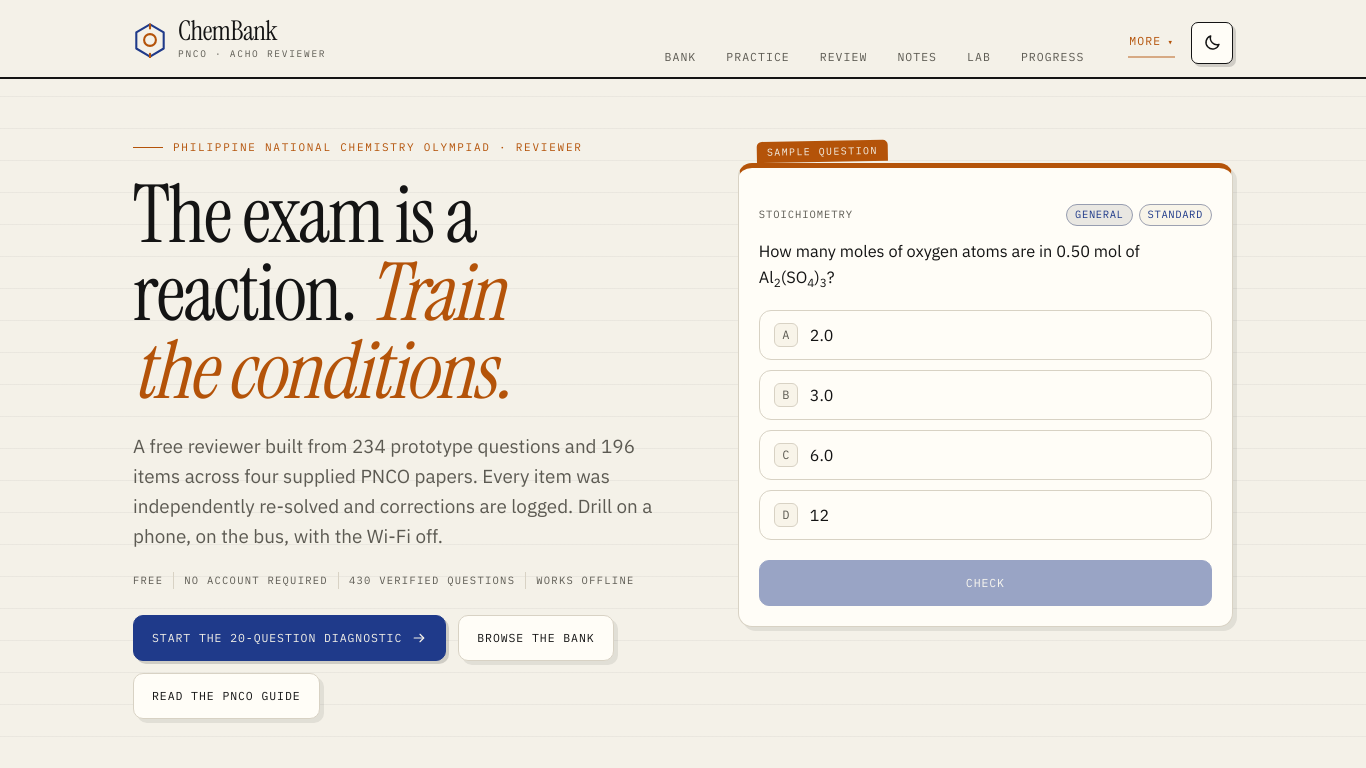
Test: the sample result calls out a wrong pick in text
Step 1. Click the radio button labelled "D 12" → (786, 515), box x1=759 y1=490 x2=1212 y2=540
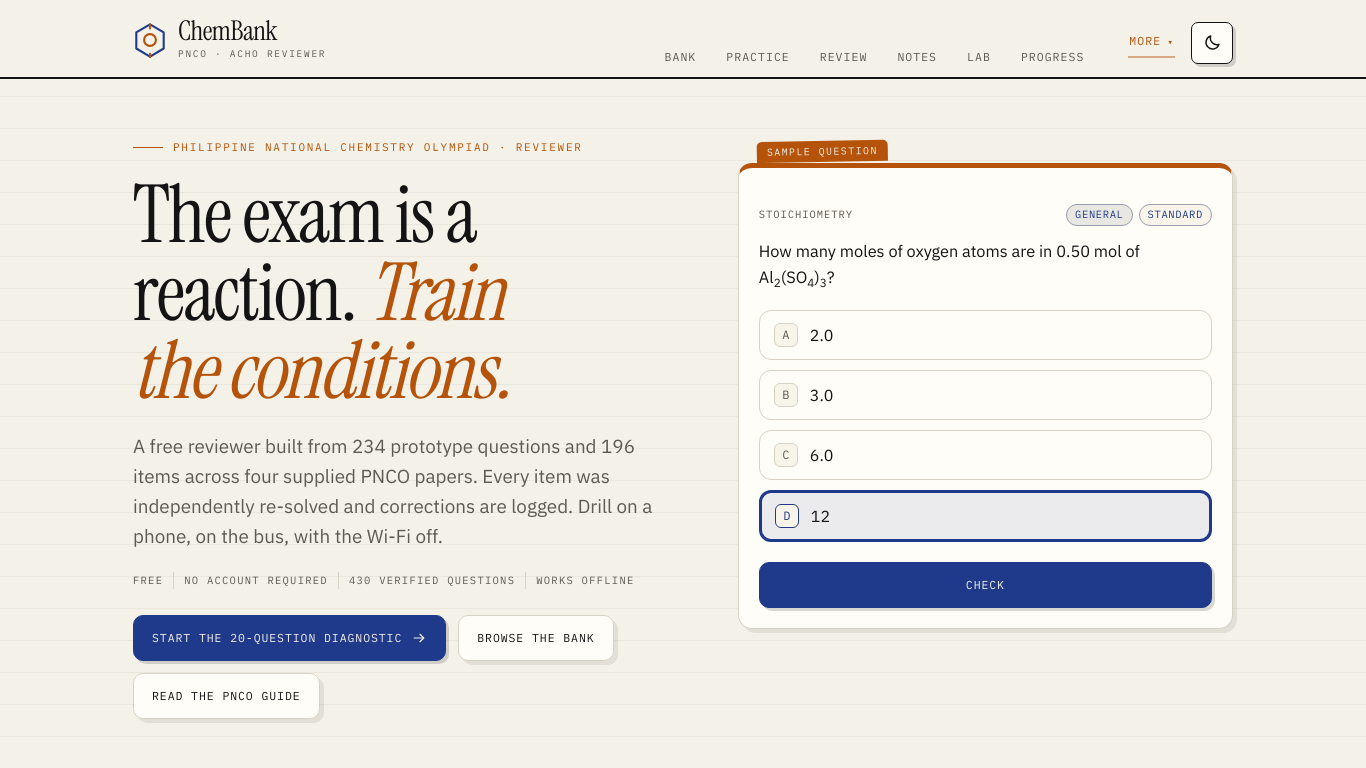
Step 2. Click the button "Check" → (985, 585), box x1=759 y1=562 x2=1212 y2=608
(page scrolled)
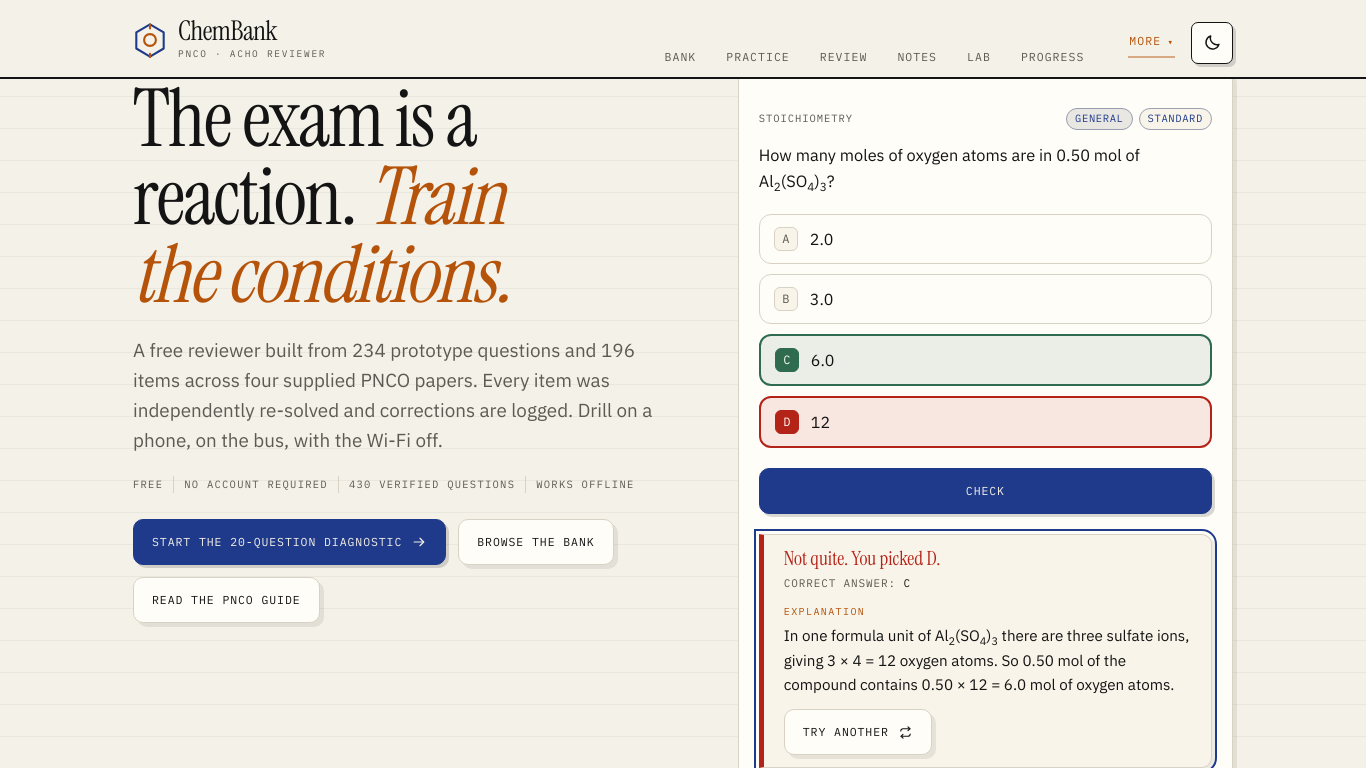
Check: the text "Not quite. You picked D." is shown, box x1=784 y1=546 x2=940 y2=571
